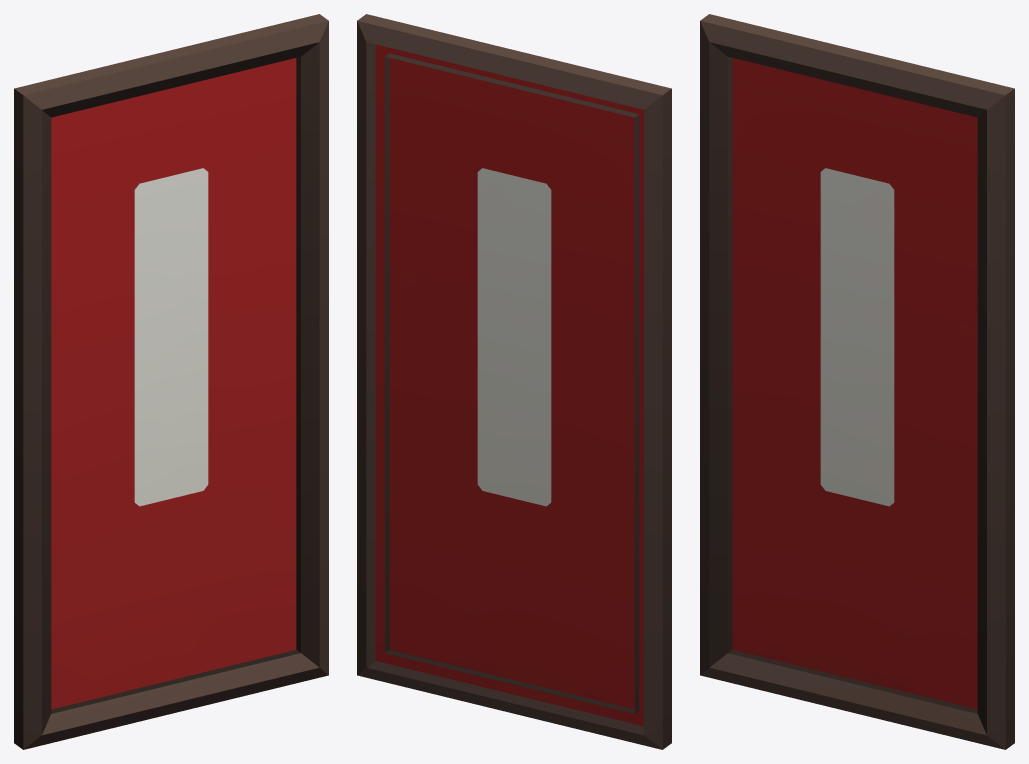
The model's file is SK_Picture_005.FBX.
The picture shows the model from 3 angles, left to right: view 1: azimuth 30°, elevation 25°; view 2: azimuth 150°, elevation 25°; view 3: azimuth 330°, elevation 25°; orthographic projection.
Parts seen in each view (by area): view 1: SK_Picture_005; view 2: SK_Picture_005; view 3: SK_Picture_005.
Part boxes in pixels (x1,y1,x2,y2): SK_Picture_005: [14, 14, 328, 749]; SK_Picture_005: [357, 14, 671, 749]; SK_Picture_005: [700, 14, 1014, 749].
Size of the model in its own units: 35 by 71.67 by 3.68.
